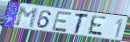1: (114, 18, 124, 39)
6: (37, 10, 52, 30)
E: (50, 10, 73, 33), (86, 15, 108, 38)
M: (14, 6, 40, 30)
T: (74, 13, 90, 35)
